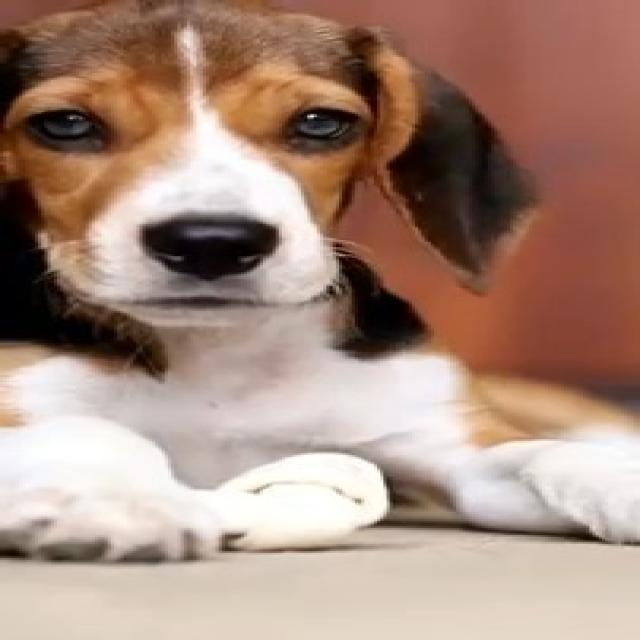dogs: (3, 4, 640, 590)
